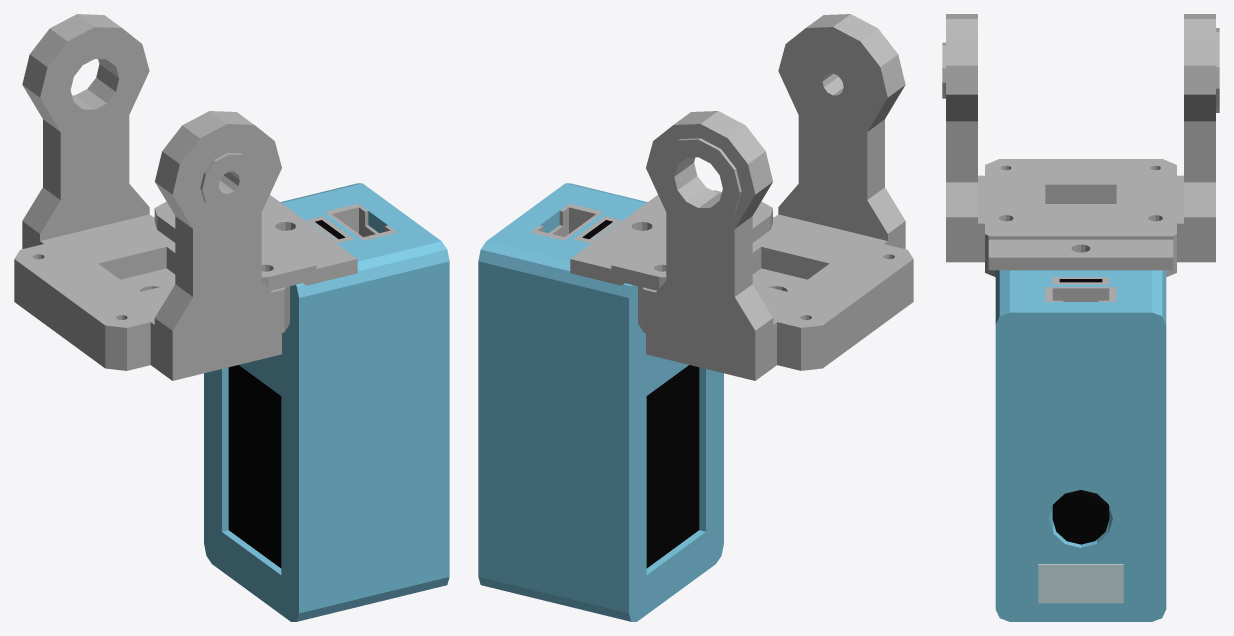
File: head-reye-y_mesh.glb
3 views of the same model, side by side, from view 1: azimuth 30°, elevation 25°; view 2: azimuth 150°, elevation 25°; view 3: azimuth 270°, elevation 25° (orthographic). The views are drawn at different scales.
Parts seen in each view (by area): view 1: base2_M1KShape4, base2_M1KShape1, base2_M1KShape2, base2_M1KShape0, base2_M1KShape5, base2_M1KShape3, base2_M1KShape8; view 2: base2_M1KShape4, base2_M1KShape2, base2_M1KShape1, base2_M1KShape0, base2_M1KShape5, base2_M1KShape3, base2_M1KShape8; view 3: base2_M1KShape4, base2_M1KShape3, base2_M1KShape0, base2_M1KShape2, base2_M1KShape1, base2_M1KShape7, base2_M1KShape6, base2_M1KShape8.
Boxes of the visible parts, left/top/right/bottom form: base2_M1KShape4: left=204, top=183, right=449, bottom=621; base2_M1KShape1: left=150, top=111, right=281, bottom=380; base2_M1KShape2: left=22, top=14, right=152, bottom=248; base2_M1KShape0: left=14, top=217, right=289, bottom=370; base2_M1KShape5: left=228, top=365, right=281, bottom=568; base2_M1KShape3: left=154, top=195, right=357, bottom=290; base2_M1KShape8: left=324, top=203, right=397, bottom=240; base2_M1KShape4: left=478, top=183, right=723, bottom=621; base2_M1KShape2: left=646, top=111, right=776, bottom=380; base2_M1KShape1: left=774, top=14, right=905, bottom=248; base2_M1KShape0: left=638, top=217, right=913, bottom=370; base2_M1KShape5: left=646, top=365, right=699, bottom=568; base2_M1KShape3: left=570, top=190, right=772, bottom=290; base2_M1KShape8: left=530, top=203, right=602, bottom=240; base2_M1KShape4: left=995, top=270, right=1166, bottom=621; base2_M1KShape3: left=988, top=206, right=1173, bottom=270; base2_M1KShape0: left=985, top=159, right=1176, bottom=276; base2_M1KShape2: left=1177, top=14, right=1219, bottom=262; base2_M1KShape1: left=942, top=14, right=984, bottom=262; base2_M1KShape7: left=1038, top=564, right=1123, bottom=603; base2_M1KShape6: left=1052, top=490, right=1109, bottom=544; base2_M1KShape8: left=1045, top=287, right=1116, bottom=301.
Size of the model in its own units: 0.0502 by 0.0765 by 0.039.
